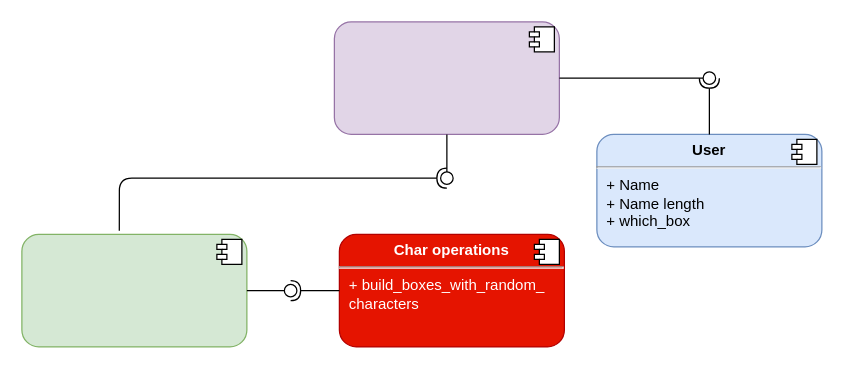
This 844x369 diagram has some shape labels left out. The centre of each missing label's shape, as x and y in pixels:
frame_operations + frame_builder: the point at 134,290
Game play engine: the point at 446,77
